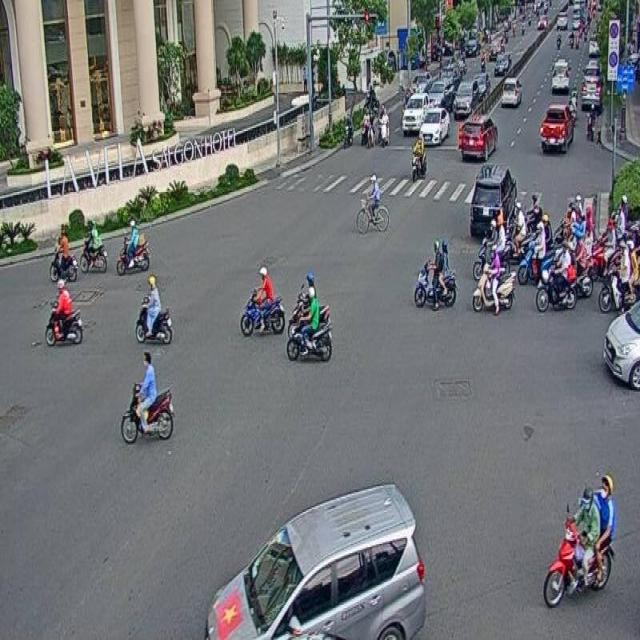bicycle: (355, 173, 390, 234)
car: (206, 486, 426, 640), (470, 163, 516, 242)
motorcycle: (542, 472, 614, 611), (121, 349, 174, 445), (286, 288, 332, 361), (239, 265, 285, 337), (472, 244, 516, 314), (535, 239, 577, 311), (414, 238, 456, 309), (134, 276, 173, 346), (44, 279, 83, 347), (115, 219, 150, 276), (48, 228, 78, 284), (79, 220, 107, 274), (411, 132, 427, 183)
